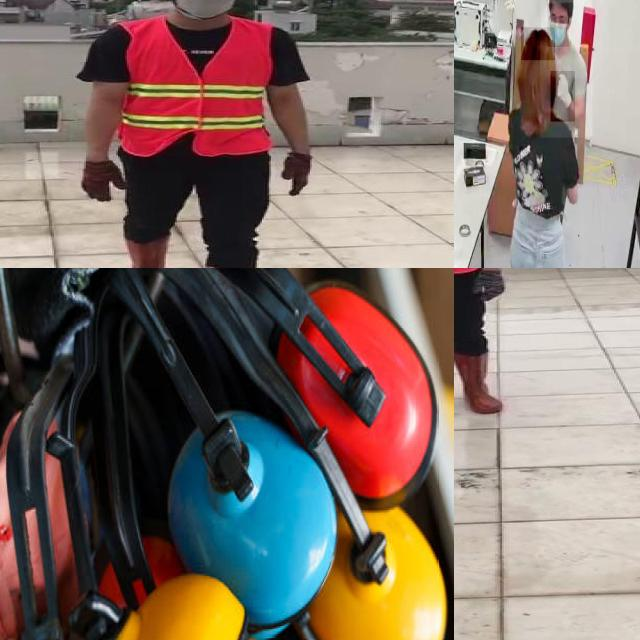Ear-protection: (113, 268, 338, 640), (76, 288, 253, 640), (209, 268, 441, 507), (5, 322, 84, 640), (314, 493, 448, 640)
boots: (454, 351, 505, 415), (123, 232, 169, 268)
face_mask: (547, 4, 569, 47)
hand_glove: (551, 71, 575, 121)
head_nohelmet: (521, 27, 555, 61)
person: (74, 0, 322, 268), (492, 0, 584, 268), (540, 0, 593, 137)
vest: (120, 21, 270, 159)
